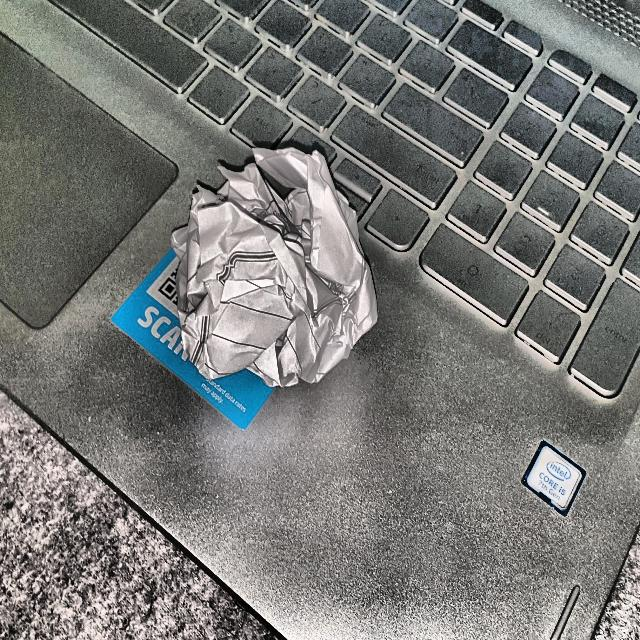paper: (159, 116, 384, 411)
